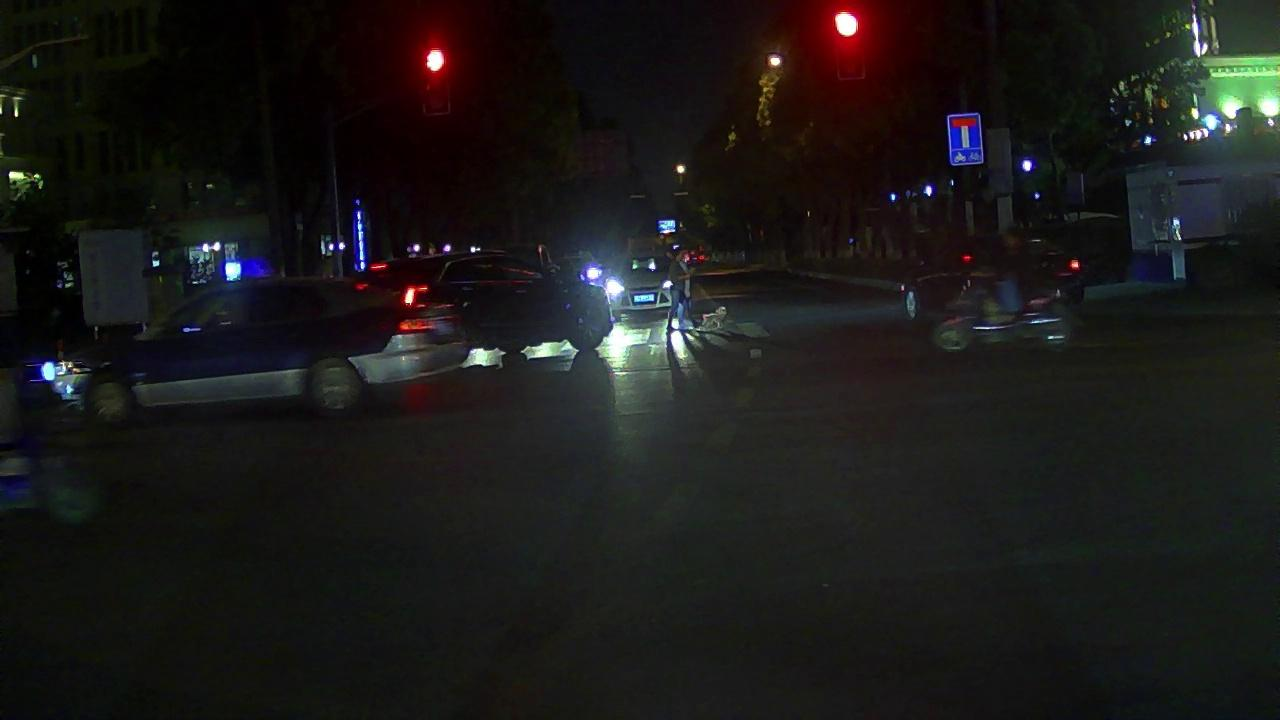traffic_light: (830, 4, 861, 71), (421, 43, 447, 100)
